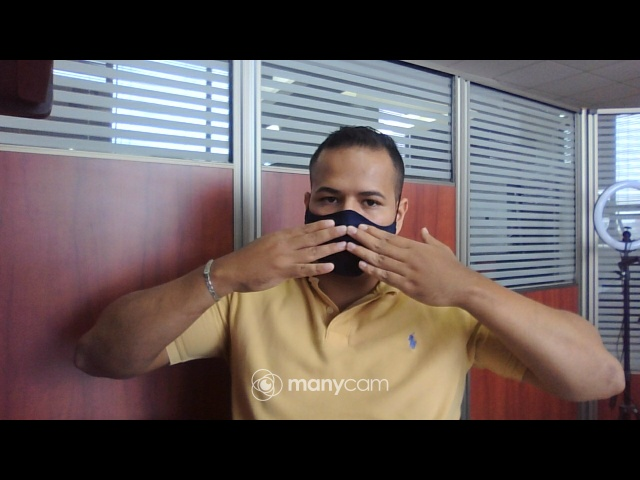Thanks: (228, 213, 469, 313)
